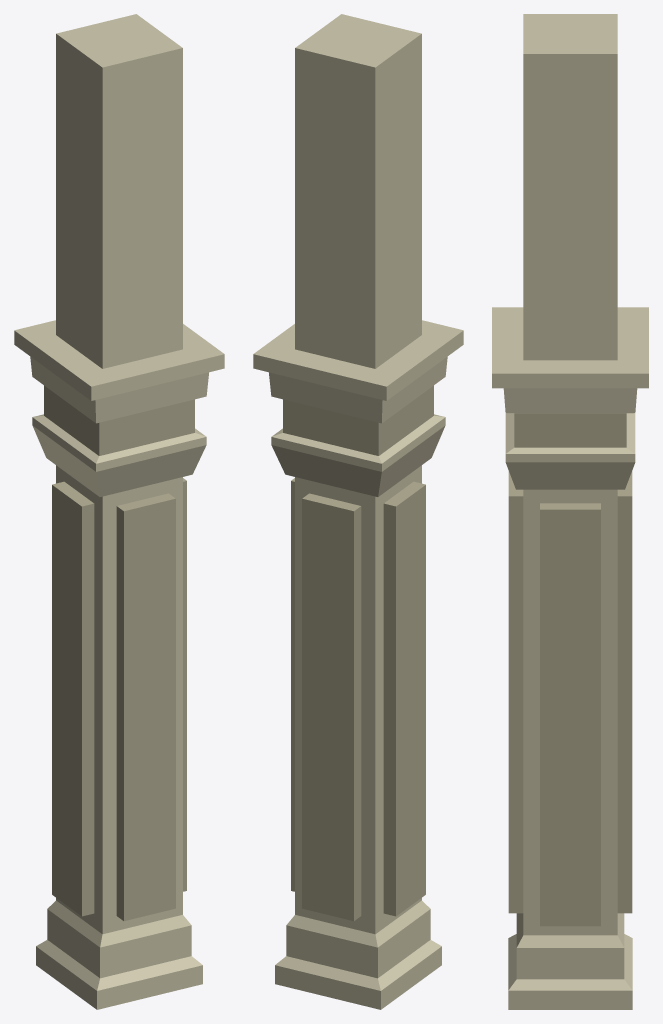
The model's file is ArchPillar.fbx.
3 views of the same model, side by side, from view 1: azimuth 30°, elevation 25°; view 2: azimuth 150°, elevation 25°; view 3: azimuth 270°, elevation 25° (orthographic).
Parts seen in each view (by area): view 1: ArchPillar; view 2: ArchPillar; view 3: ArchPillar.
Boxes of the visible parts, bbox=[...] form: ArchPillar: bbox=[14, 14, 224, 1009]; ArchPillar: bbox=[253, 14, 463, 1009]; ArchPillar: bbox=[492, 14, 648, 1009].
Bounding box in the file's own units: 53.62 × 359 × 53.62.
